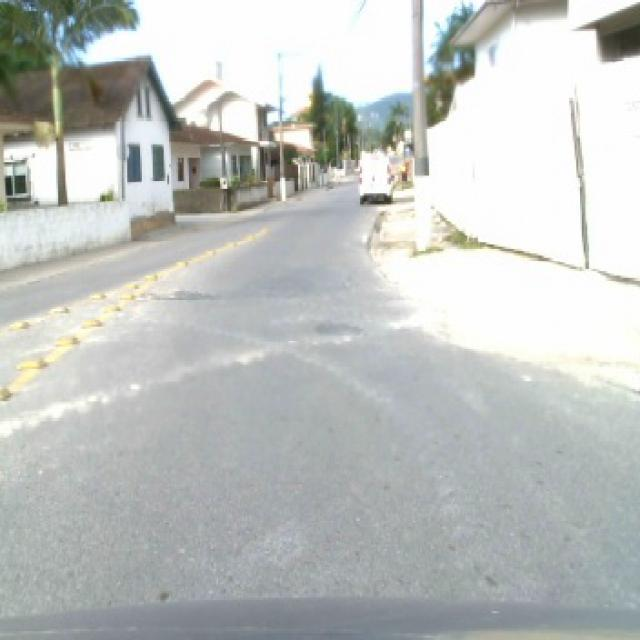Poth-hole: (0, 389, 113, 442), (132, 286, 216, 300), (232, 346, 266, 364), (12, 353, 48, 367), (51, 334, 80, 344), (7, 318, 29, 327), (46, 302, 68, 311), (88, 289, 106, 298), (116, 289, 134, 298), (80, 316, 100, 324), (0, 384, 11, 398), (127, 378, 140, 389), (102, 302, 120, 309), (122, 280, 136, 289), (202, 246, 216, 254), (142, 271, 156, 278), (172, 258, 188, 264), (226, 240, 237, 244)
